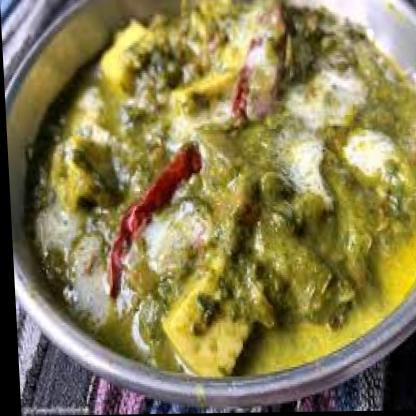palak_paneer: (13, 0, 416, 380)
